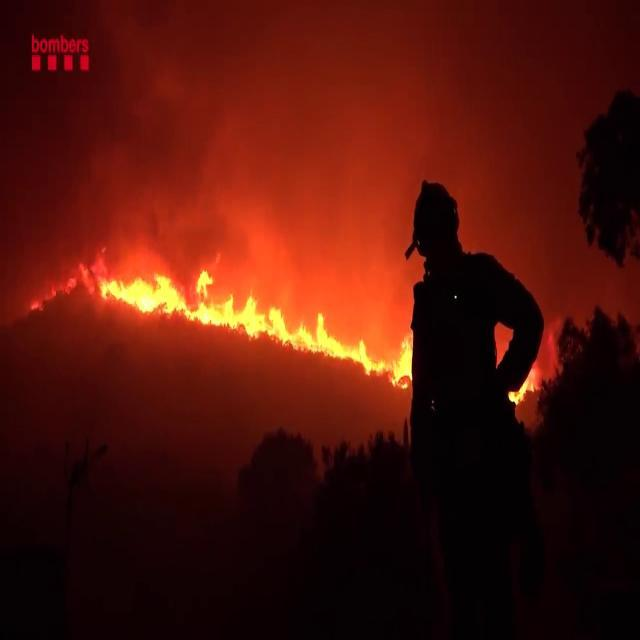Fire: (93, 243, 410, 401)
Smoke: (24, 0, 592, 260)
